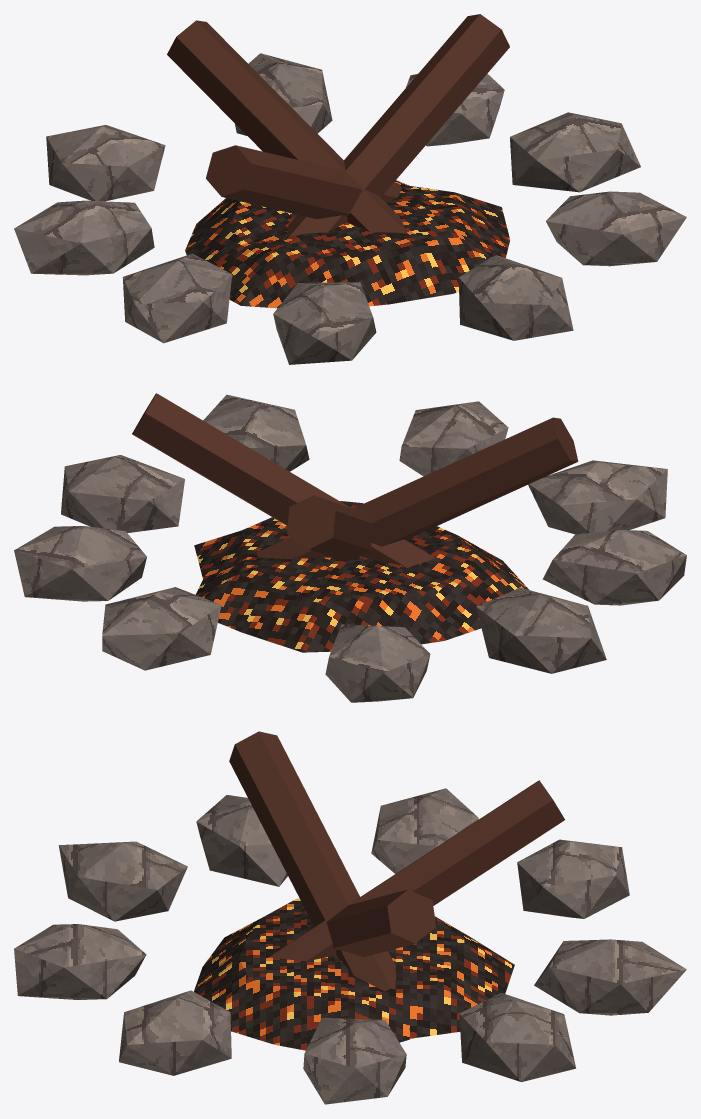
The model's file is campfire.glb.
3 renders of one model, top to bottom at view 1: azimuth 30°, elevation 25°; view 2: azimuth 150°, elevation 25°; view 3: azimuth 270°, elevation 25°, orthographic.
Parts seen in each view (by area): view 1: Embers; view 2: Embers; view 3: Embers.
Part boxes in pixels (left/top/right/bottom): Embers: left=14, top=14, right=686, bottom=364; Embers: left=14, top=393, right=686, bottom=702; Embers: left=14, top=731, right=686, bottom=1104.
Bounding box in the file's own units: 1.22 × 0.3794 × 1.23.
3 materials, 3 textured.
